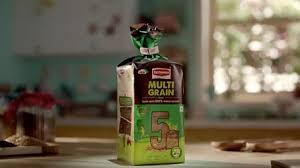bread: (117, 22, 188, 164)
